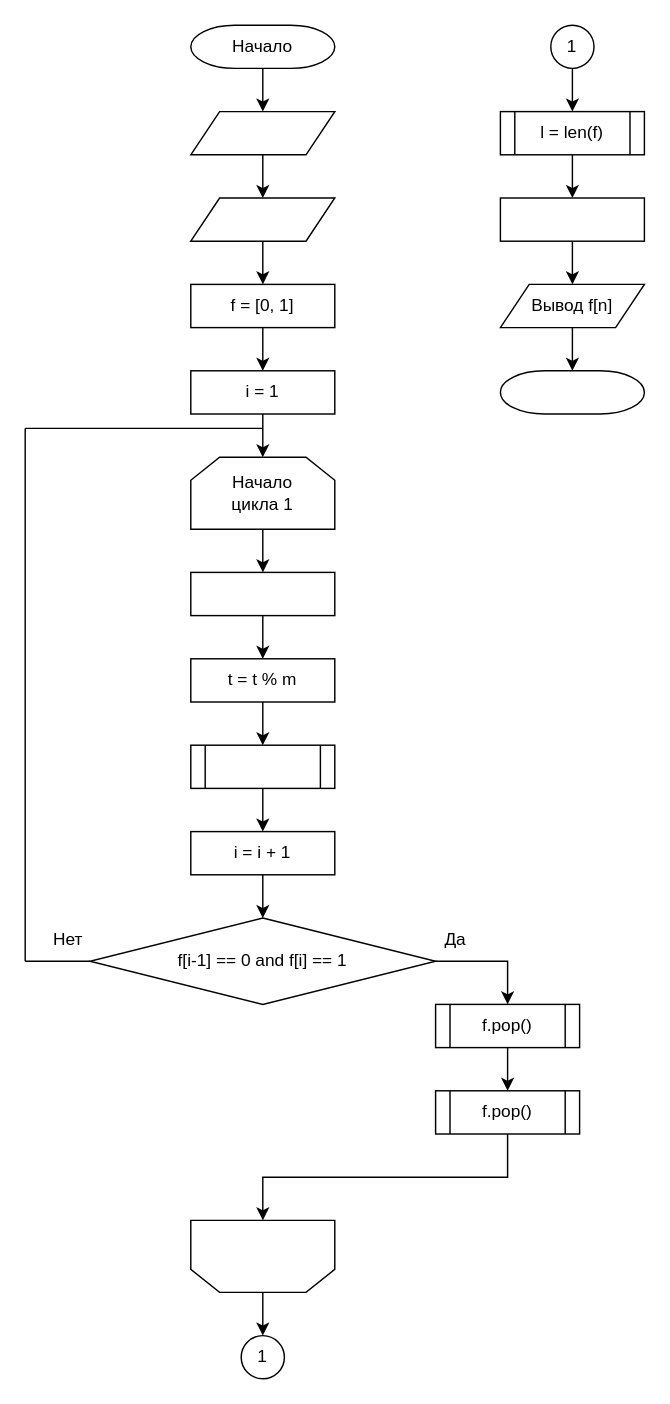
Image size: 670x1404. Some labels were removed from this diagram. Here are the shapes that lost their labels. From the top down, the centre of each, then its label:
At (x=262, y=132): "Ввод n".
At (x=262, y=219): "Ввод m".
At (x=571, y=219): "n = n % l".
At (x=571, y=391): "Конец".
At (x=262, y=593): "t = f[i-1] + f[i]".
At (x=262, y=766): "f.append(t)".
At (x=262, y=1255): "Конец цикла 1".
